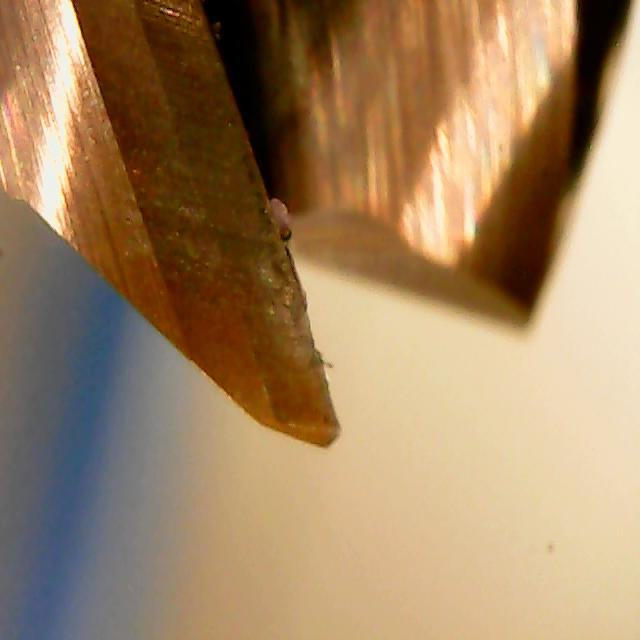Tool-wear-class-1: (202, 285, 364, 456)
